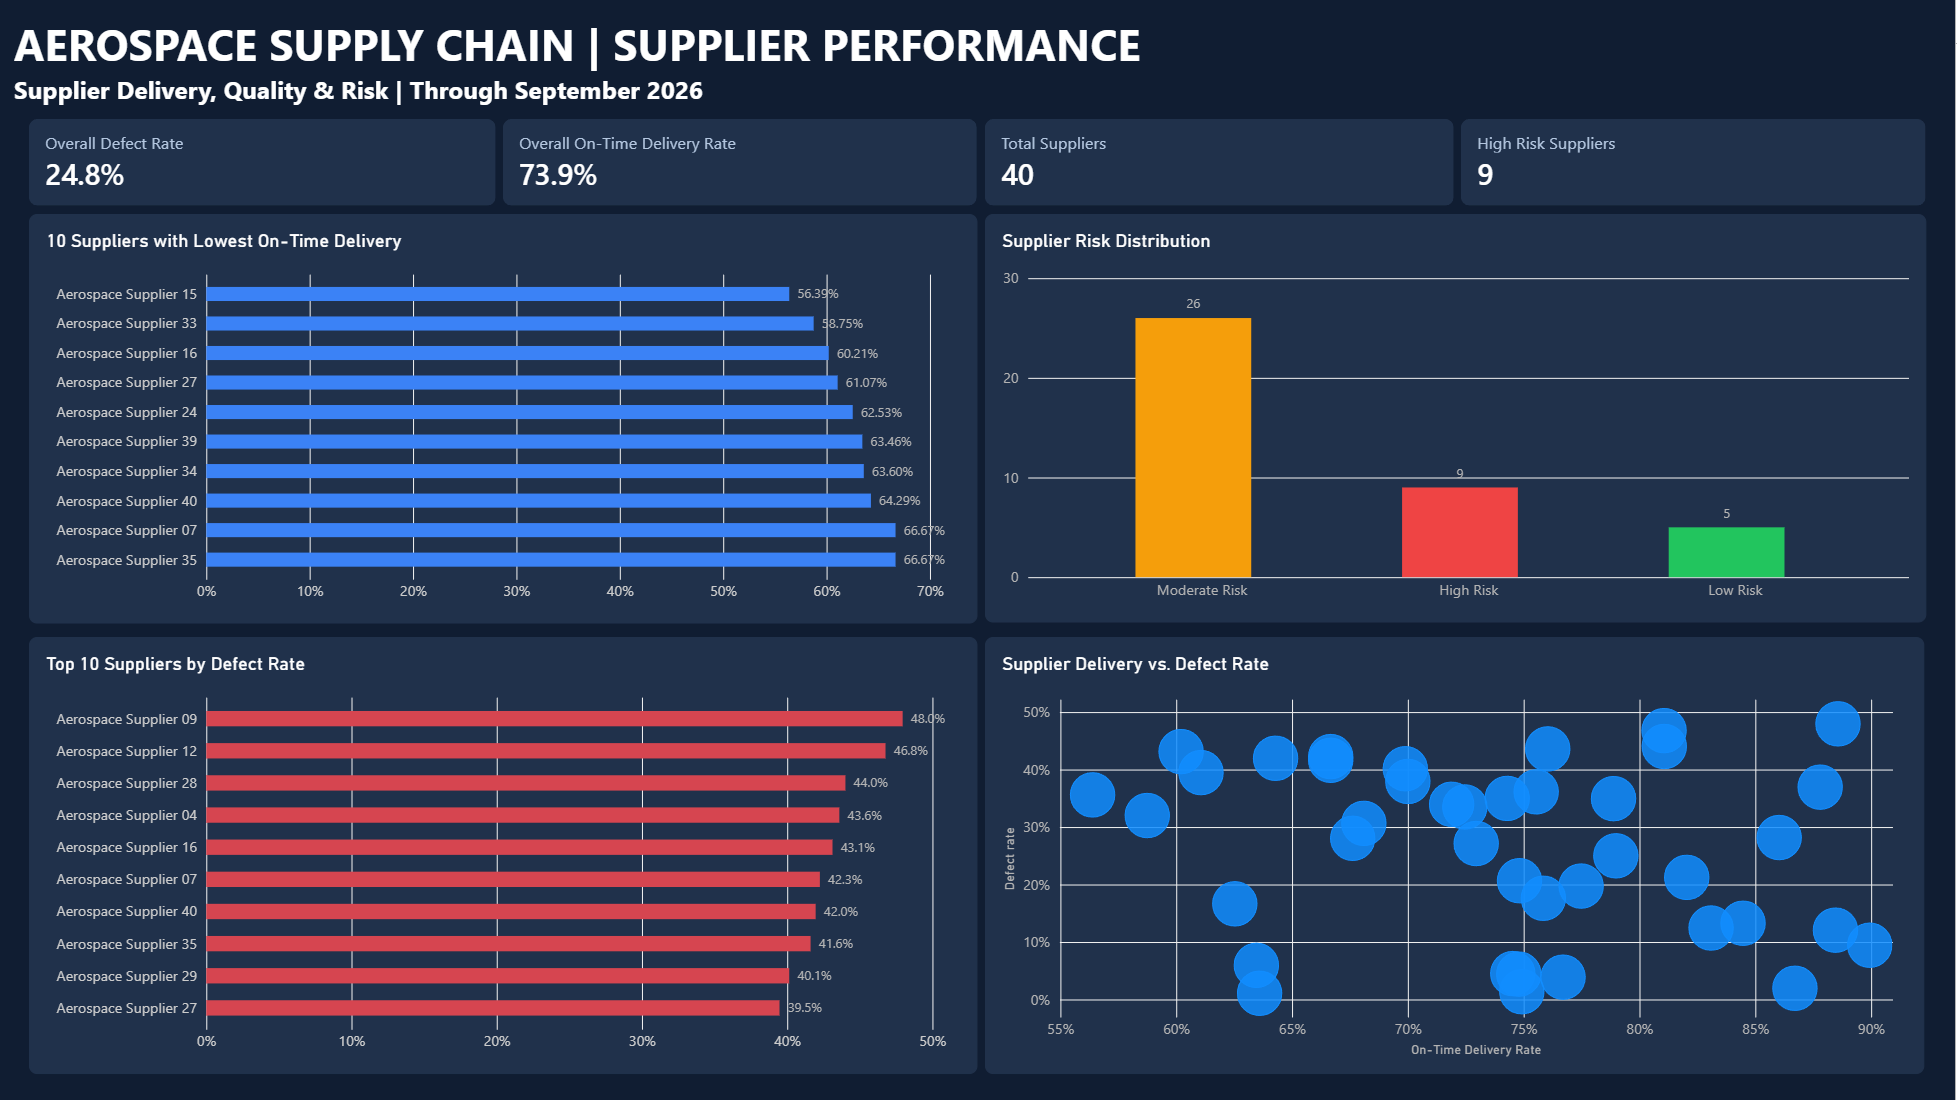

This screenshot's page, from the dashboard's own definition file:
{"tool":"powerbi","page":{"name":"Supplier Performance","canvas":[1920,1080],"ordinal":2},"visuals":[{"type":"textbox","box":[14.7,13.7,1114.1,103.1],"z":0},{"type":"cardVisual","fields":{"Data":["vw_supplier_performance.Total Suppliers"]},"box":[967.9,116.8,460.4,85.4],"z":1000},{"type":"cardVisual","fields":{"Data":["vw_supplier_performance.Overall On-Time Delivery Rate"]},"box":[494.7,116.8,465.3,85.4],"z":2000},{"type":"cardVisual","fields":{"Data":["vw_supplier_performance.Overall Defect Rate"]},"box":[29.4,116.8,458.4,85.4],"z":3000},{"type":"cardVisual","fields":{"Data":["vw_supplier_risk.High Risk Suppliers"]},"box":[1435.1,116.8,456.4,85.4],"z":4000},{"type":"clusteredBarChart","title":"10 Suppliers with Lowest On-Time Delivery","fields":{"Category":["vw_supplier_performance.SupplierName"],"Y":["vw_supplier_performance.Supplier On-Time Delivery %"]},"box":[29.4,210.1,930.6,402.5],"z":5000},{"type":"clusteredBarChart","title":"Top 10 Suppliers by Defect Rate","fields":{"Category":["vw_supplier_performance.SupplierName"],"Y":["vw_supplier_performance.Supplier Defect Rate %"]},"box":[29.4,625.3,930.6,429],"z":6000},{"type":"clusteredColumnChart","title":"Supplier Risk Distribution","fields":{"Category":["vw_supplier_risk.RiskCategory"],"Y":["CountNonNull(vw_supplier_risk.SupplierID)"]},"box":[967.9,210.1,923.7,401.5],"z":7000},{"type":"scatterChart","title":"Supplier Delivery vs. Defect Rate","fields":{"Category":["vw_supplier_performance.SupplierName"],"Size":["CountNonNull(vw_supplier_performance.TotalShipments)"],"X":["vw_supplier_performance.Supplier On-Time Delivery %"],"Y":["vw_supplier_performance.Supplier Defect Rate %"]},"box":[967.9,625.3,921.7,429],"z":8000}]}

Visuals, with their boxes in screenshot pixels (x1, y1, x2, y2), scaled from the page's 1920x1080 canvas onto the 1957x1100 screenshot:
textbox: box=[15, 14, 1151, 119]
cardVisual - vw_supplier_performance.Total Suppliers: box=[987, 119, 1456, 206]
cardVisual - vw_supplier_performance.Overall On-Time Delivery Rate: box=[504, 119, 978, 206]
cardVisual - vw_supplier_performance.Overall Defect Rate: box=[30, 119, 497, 206]
cardVisual - vw_supplier_risk.High Risk Suppliers: box=[1463, 119, 1928, 206]
"10 Suppliers with Lowest On-Time Delivery" clusteredBarChart: box=[30, 214, 978, 624]
"Top 10 Suppliers by Defect Rate" clusteredBarChart: box=[30, 637, 978, 1074]
"Supplier Risk Distribution" clusteredColumnChart: box=[987, 214, 1928, 623]
"Supplier Delivery vs. Defect Rate" scatterChart: box=[987, 637, 1926, 1074]
